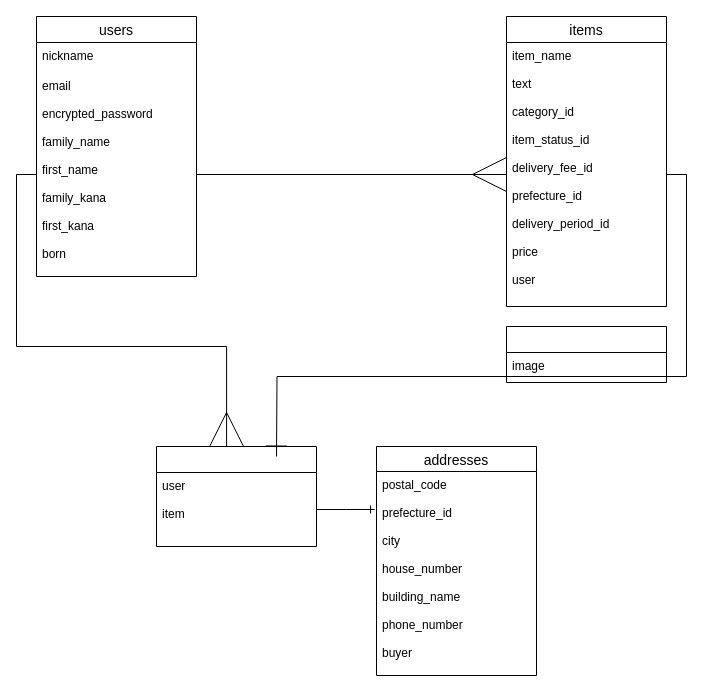
Some shapes in this 703 by 692 pixel diagram are drawn without their labels. The box of each missing label's shape, as (x1, y1, x2, y2) in pixels:
ActiveStrage: (506, 326, 666, 382)
buyers: (156, 446, 316, 546)
